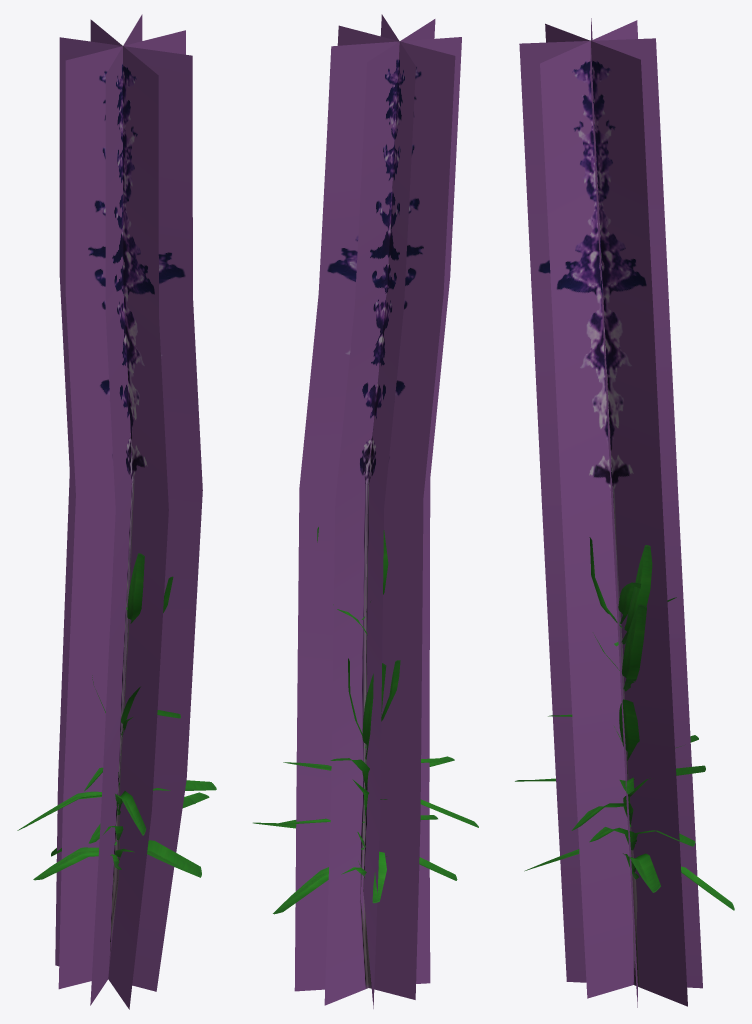
Rendered from Model_Plant_15.fbx.
The picture shows the model from 3 angles, left to right: view 1: azimuth 30°, elevation 25°; view 2: azimuth 150°, elevation 25°; view 3: azimuth 270°, elevation 25°; orthographic projection. The views are drawn at different scales.
Visible parts, largest first — view 1: lavender_a_; view 2: lavender_a_; view 3: lavender_a_.
Boxes of the visible parts, left/top/right/bottom form: lavender_a_: left=17, top=14, right=216, bottom=1009; lavender_a_: left=253, top=14, right=478, bottom=1008; lavender_a_: left=515, top=18, right=734, bottom=1007.
Bounding box in the file's own units: 26.64 × 111 × 24.11.
